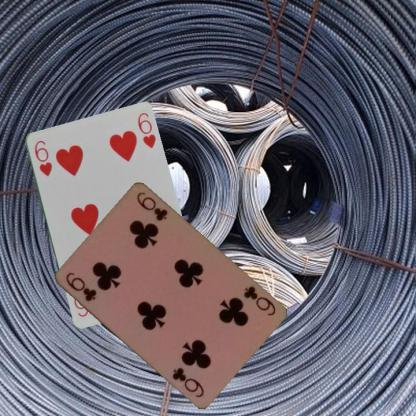6c: (240, 283, 277, 317), (63, 269, 98, 304)
6h: (31, 138, 53, 178)
